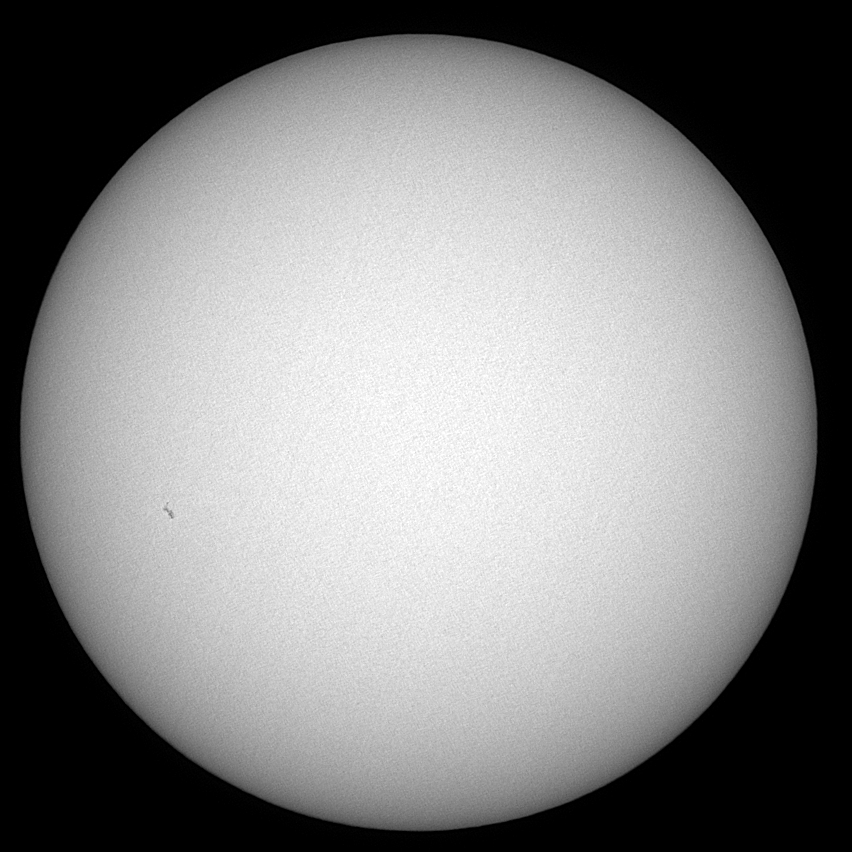sunspot: (159, 499, 177, 519)
